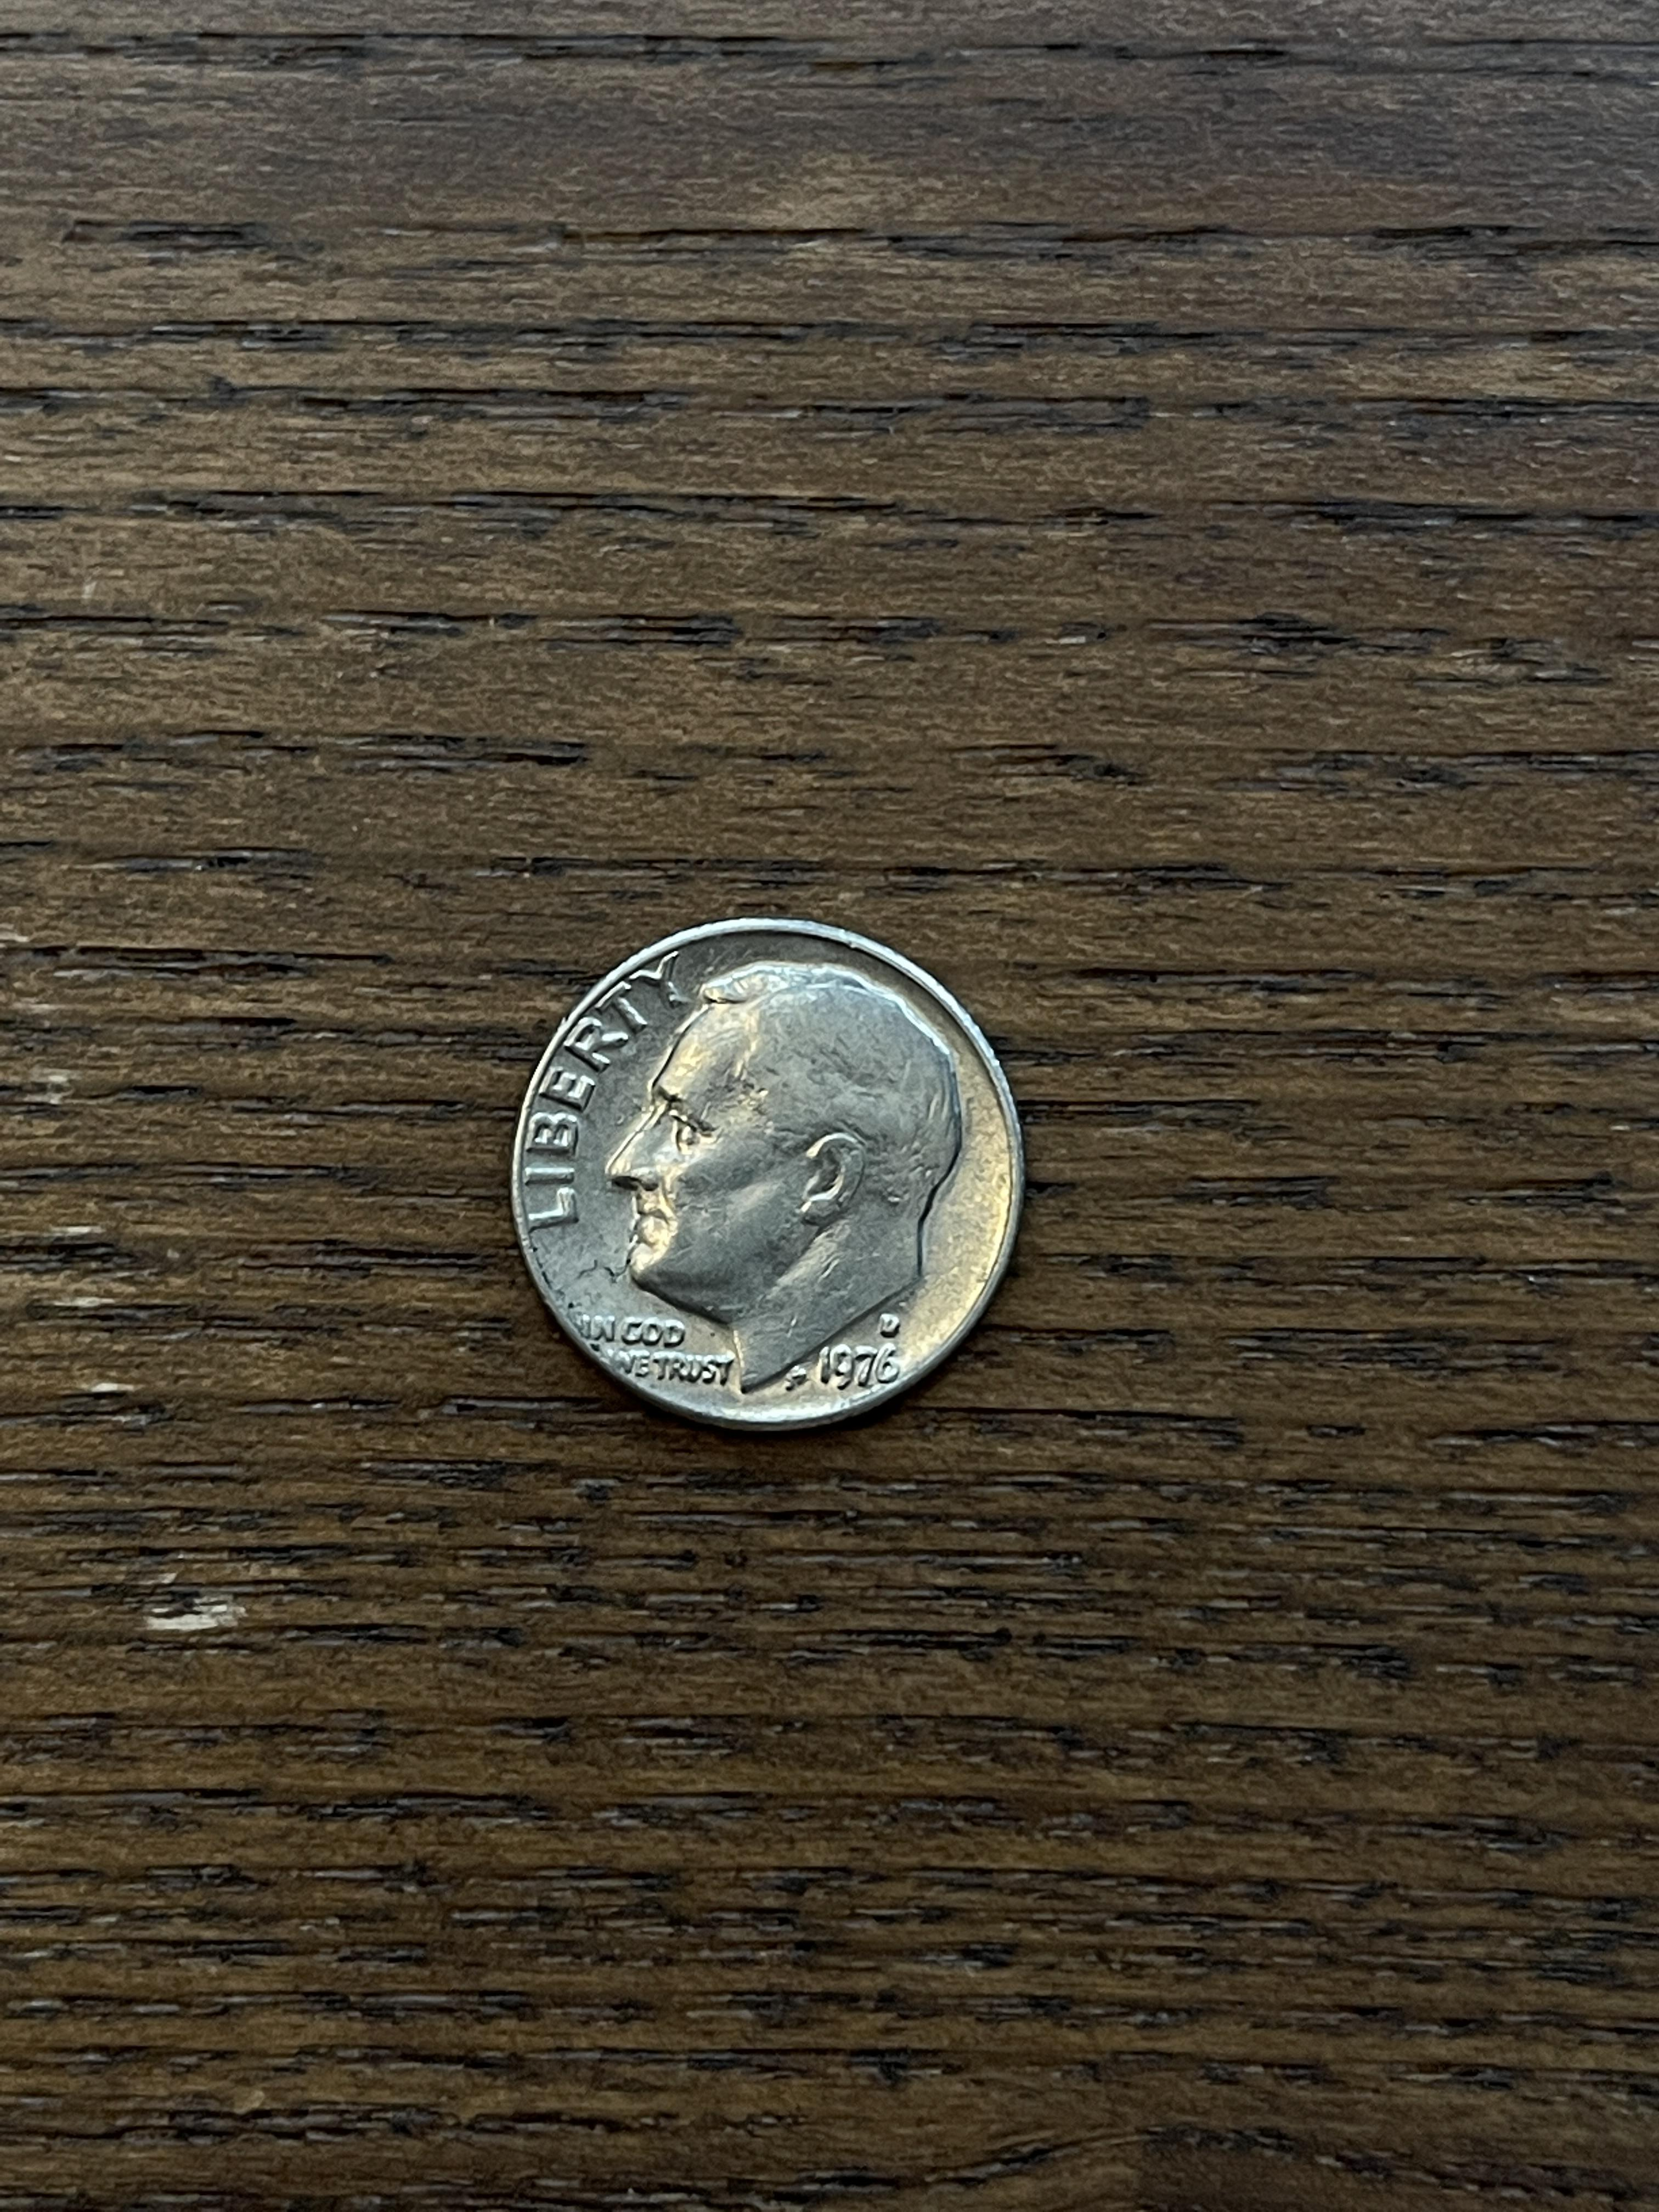Dime: (507, 911, 1032, 1437)
